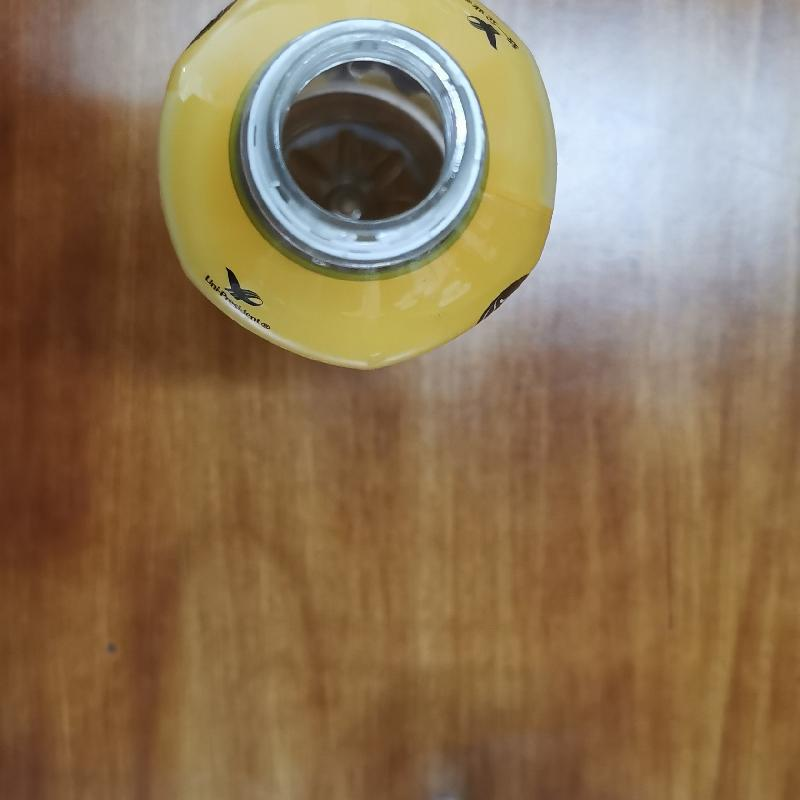bottles: (150, 2, 565, 377)
